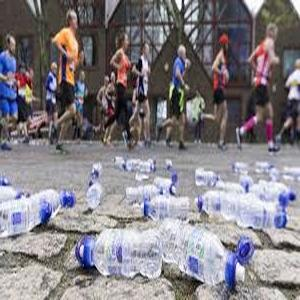Plastic: (160, 220, 250, 285), (74, 226, 160, 278), (142, 195, 192, 222)
